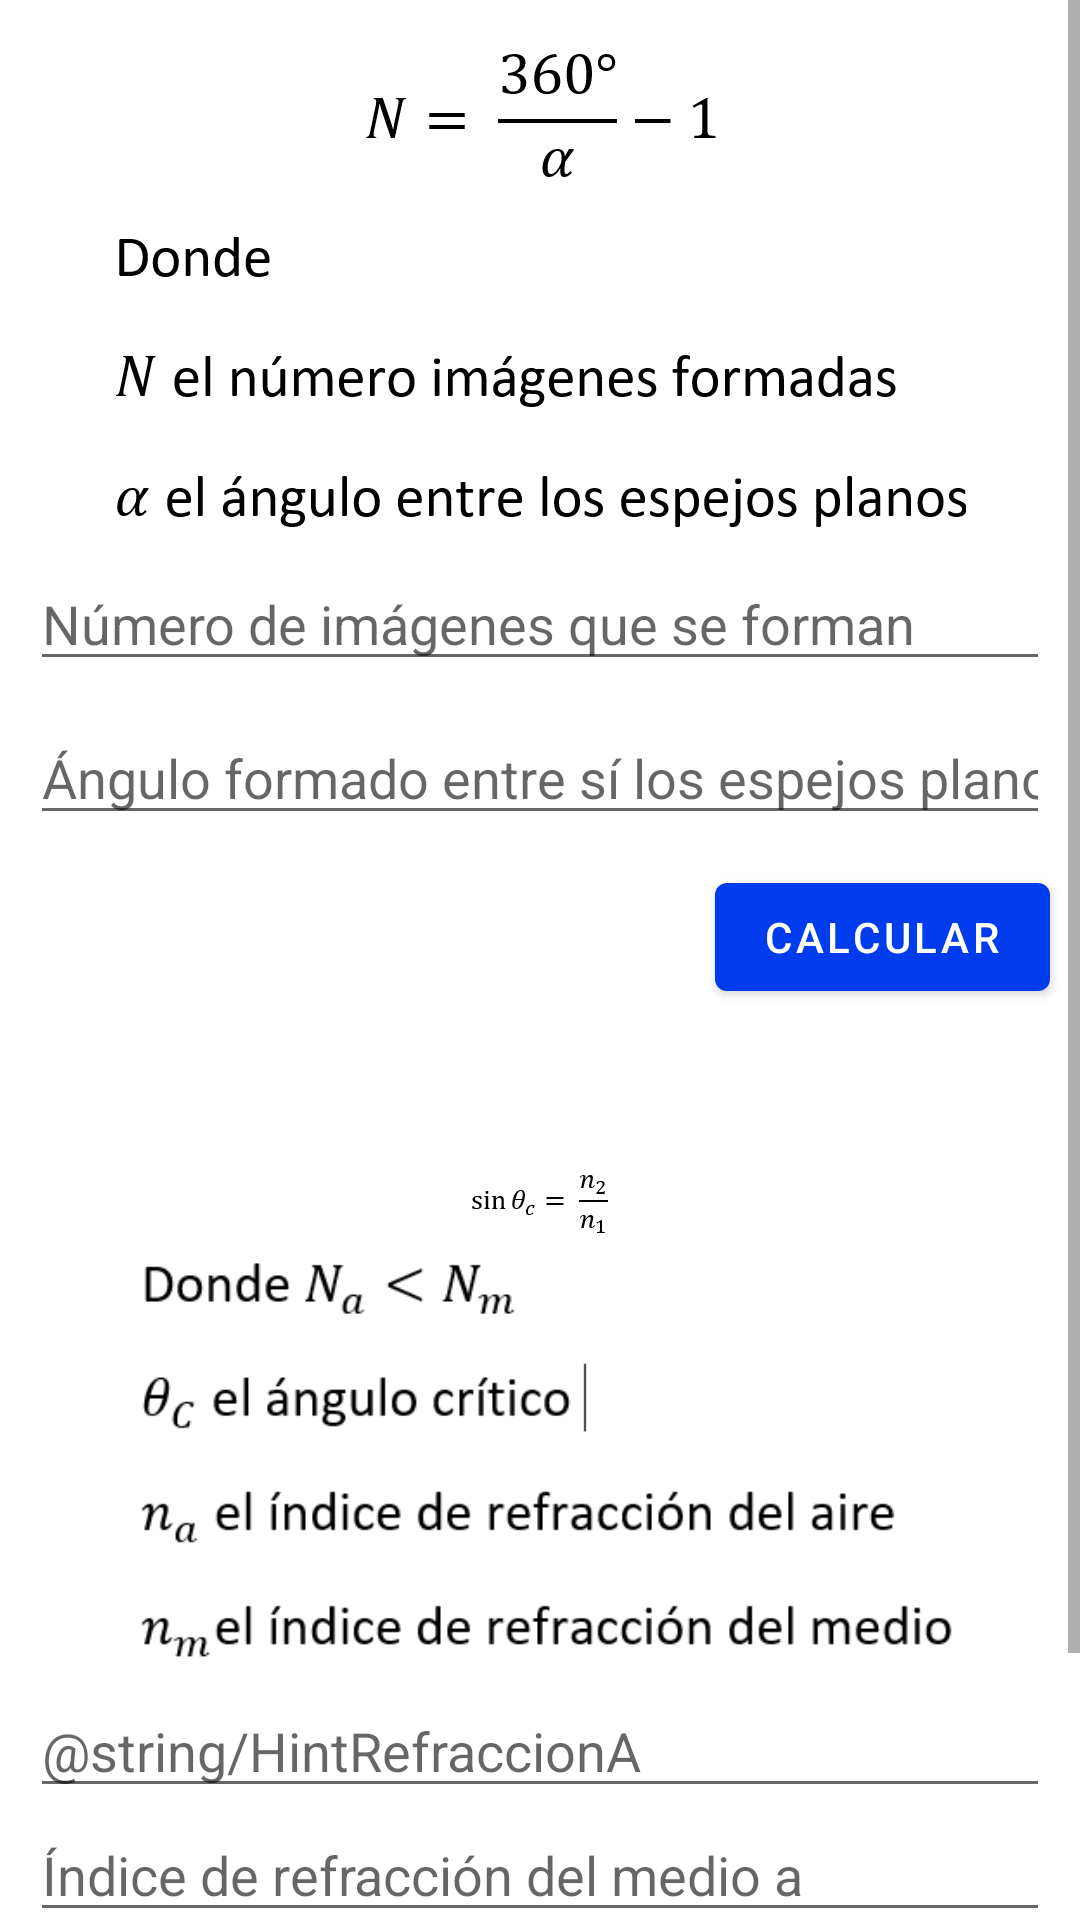

Icons on this 1080×1920 Android screen, each with the point to tap as [x,y]:
reflexionf: [541,115]
refraccionf: [540,1204]
